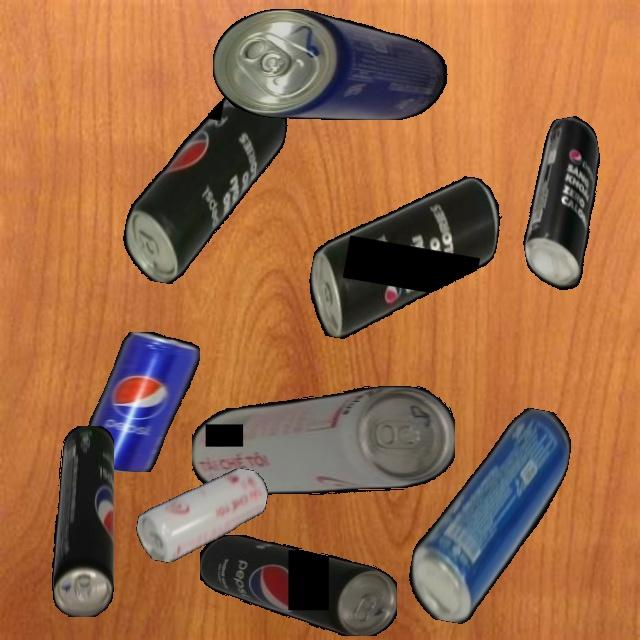debris: (301, 153, 507, 362), (403, 393, 576, 637), (117, 64, 294, 299), (191, 386, 455, 495), (213, 8, 454, 120), (504, 114, 622, 300), (199, 535, 397, 636), (132, 453, 271, 577), (80, 331, 200, 472), (51, 425, 114, 617)
